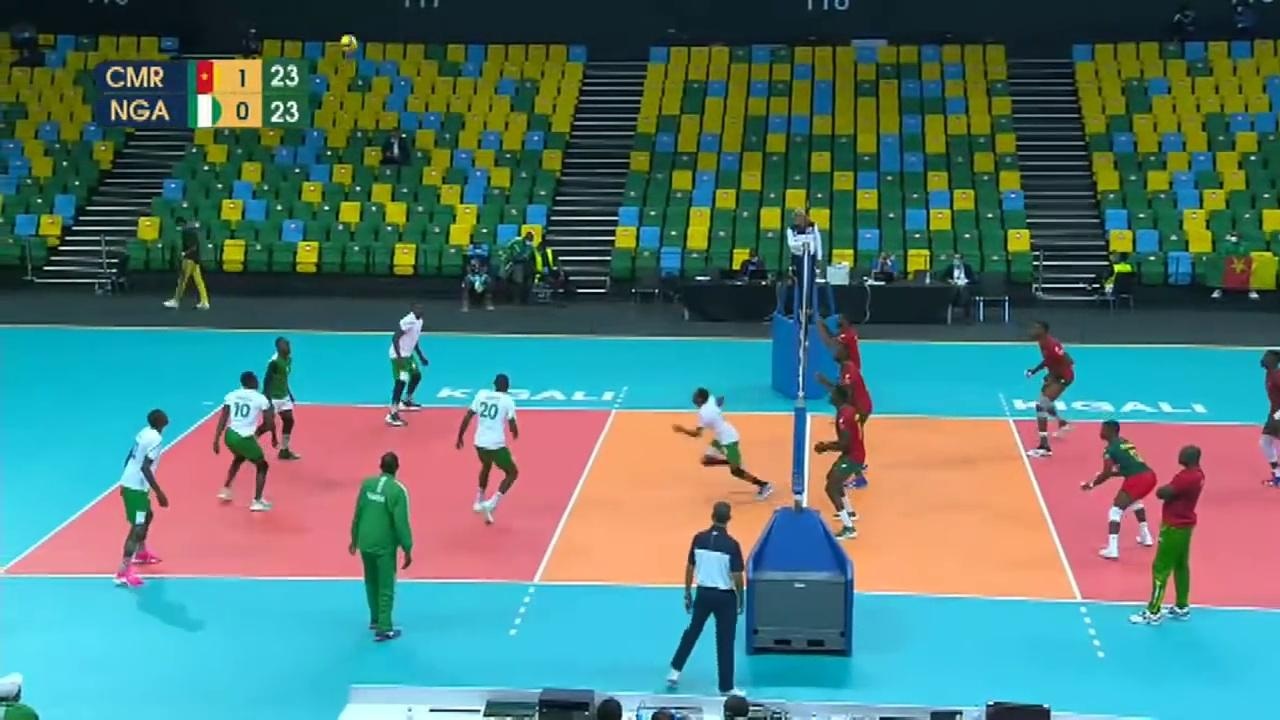player: (665, 498, 750, 696), (679, 389, 775, 501), (1083, 415, 1156, 560), (114, 412, 177, 577), (460, 377, 524, 523), (215, 375, 279, 510), (1017, 323, 1076, 455), (822, 385, 869, 545), (827, 341, 875, 490), (1238, 341, 1280, 493), (250, 337, 301, 460), (825, 311, 866, 439), (386, 307, 428, 422)
refree: (784, 210, 826, 309)
